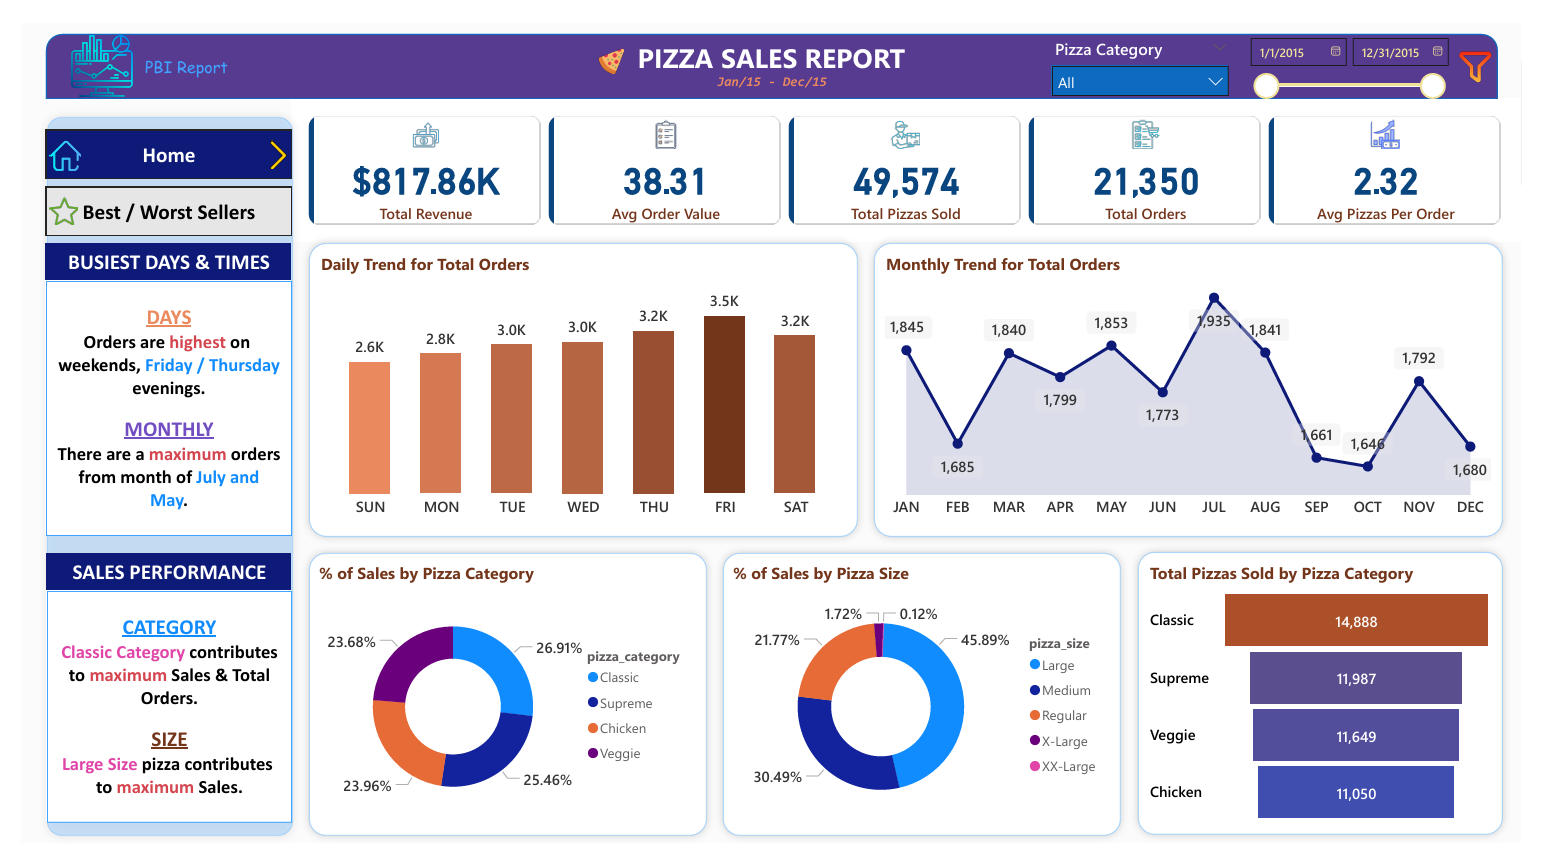

The page's visual inventory and layout, read from the dashboard file:
{"tool":"powerbi","page":{"name":"Home","canvas":[1500,820],"ordinal":0},"visuals":[{"type":"cardVisual","fields":{"Data":["pizza_sales.Total Revenue","pizza_sales.Average Order Value","pizza_sales.Total Pizzas Sold","pizza_sales.Total Orders","pizza_sales.Average Pizzas Per Order"]},"box":[270,75,1230,143.8],"z":0},{"type":"shape","box":[23.8,10,1452.5,65],"z":1000},{"type":"textbox","box":[597.5,10,303.8,47.5],"z":2000},{"type":"textbox","box":[680,42.5,140,32.5],"z":3000},{"type":"image","box":[576.2,16.2,26.2,41.2],"z":4000},{"type":"shape","box":[278.8,211.2,565,310],"z":5000},{"type":"columnChart","title":"Daily Trend for Total Orders","fields":{"Category":["pizza_sales.Order Day"],"Y":["pizza_sales.Total Orders"]},"box":[293.8,228.8,535,273.8],"z":6000},{"type":"shape","box":[843.8,211.2,645,310],"z":7000},{"type":"areaChart","title":"Monthly Trend for Total Orders","fields":{"Y":["pizza_sales.Total Orders"],"Category":["pizza_sales.Order Month"]},"box":[858.8,228.8,615,273.8],"z":8000},{"type":"shape","box":[279.1,521.4,413.7,298.9],"z":9000},{"type":"shape","box":[17,85,262.1,735.3],"z":10000},{"type":"shape","box":[693.2,520.9,413.3,299.1],"z":11000},{"type":"shape","box":[1107.9,519.9,381.1,298.9],"z":12000},{"type":"donutChart","title":"% of Sales by Pizza Category","fields":{"Category":["pizza_sales.pizza_category"],"Y":["pizza_sales.Total Revenue"]},"box":[291.8,538.4,386.8,266.3],"z":13000},{"type":"donutChart","title":"% of Sales by Pizza Size","fields":{"Y":["pizza_sales.Total Revenue"],"Category":["pizza_sales.pizza_size"]},"box":[706,537.9,386.4,267],"z":14000},{"type":"funnel","title":"Total Pizzas Sold by Pizza Category","fields":{"Category":["pizza_sales.pizza_category"],"Y":["pizza_sales.Total Pizzas Sold"]},"box":[1123.5,538.4,352.8,266.3],"z":15000},{"type":"textbox","box":[24.4,219.5,245.2,37.2],"z":16000},{"type":"textbox","box":[24.4,256.7,245.2,255.4],"z":17000},{"type":"textbox","box":[24.5,566.9,245.3,231.7],"z":18000},{"type":"textbox","box":[24.5,530.1,245.3,36.8],"z":19000},{"type":"slicer","fields":{"Values":["pizza_sales.pizza_category"]},"box":[1020,8.5,196.9,65.2],"z":20000},{"type":"slicer","fields":{"Values":["pizza_sales.order_date"]},"box":[1215.6,4.3,216.8,75.1],"z":21000},{"type":"pageNavigator","box":[24.1,106.3,246.5,49.6],"z":22000},{"type":"pageNavigator","box":[24.1,162.9,246.5,49.6],"z":23000},{"type":"image","box":[242.3,106.3,28.3,49.6],"z":24000},{"type":"image","box":[28.3,107.7,31.2,48.2],"z":25000},{"type":"image","box":[28.3,162.9,28.3,48.2],"z":26000},{"type":"image","box":[1430.9,9.9,45.3,65.2],"z":27000},{"type":"image","box":[24.4,10.3,110.4,64.2],"z":28000},{"type":"textbox","box":[110.5,25.5,107.7,34],"z":29000}]}

Visuals, with their boxes in screenshot pixels (x1, y1, x2, y2), scaled from the page's 1500x820 canvas onto the 1545x861 screenshot:
cardVisual - pizza_sales.Total Revenue x pizza_sales.Average Order Value: 278,79,1544,230
shape: 25,10,1521,79
textbox: 615,10,928,60
textbox: 700,45,845,79
image: 593,17,620,60
shape: 287,222,869,547
"Daily Trend for Total Orders" columnChart: 303,240,854,528
shape: 869,222,1533,547
"Monthly Trend for Total Orders" areaChart: 885,240,1518,528
shape: 287,547,714,860
shape: 18,89,287,860
shape: 714,547,1140,860
shape: 1141,546,1534,860
"% of Sales by Pizza Category" donutChart: 301,565,699,845
"% of Sales by Pizza Size" donutChart: 727,565,1125,845
"Total Pizzas Sold by Pizza Category" funnel: 1157,565,1521,845
textbox: 25,230,278,270
textbox: 25,270,278,538
textbox: 25,595,278,839
textbox: 25,557,278,595
slicer - pizza_sales.pizza_category: 1051,9,1253,77
slicer - pizza_sales.order_date: 1252,5,1475,83
pageNavigator: 25,112,279,164
pageNavigator: 25,171,279,223
image: 250,112,279,164
image: 29,113,61,164
image: 29,171,58,222
image: 1474,10,1520,79
image: 25,11,139,78
textbox: 114,27,225,62
